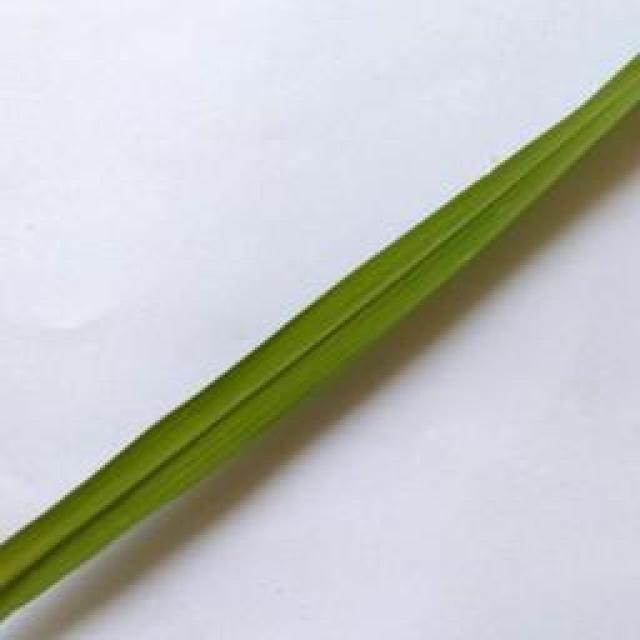Healthy-Plant: (0, 50, 640, 617)
